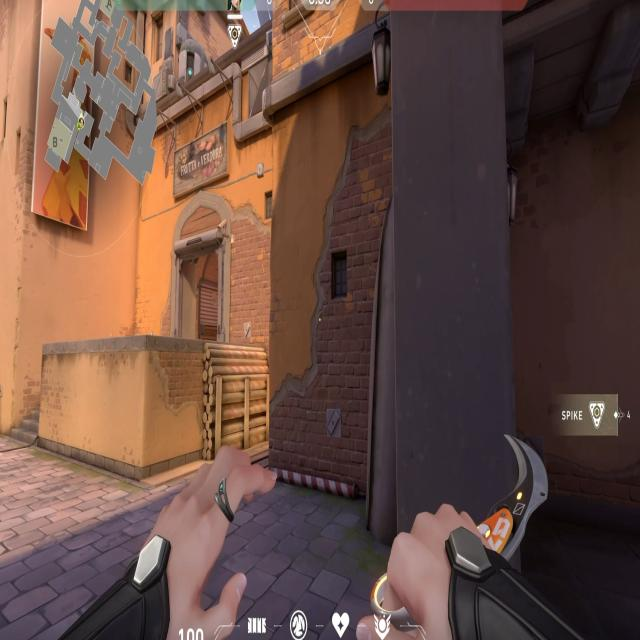B_Cubby: (136, 322, 276, 477)
